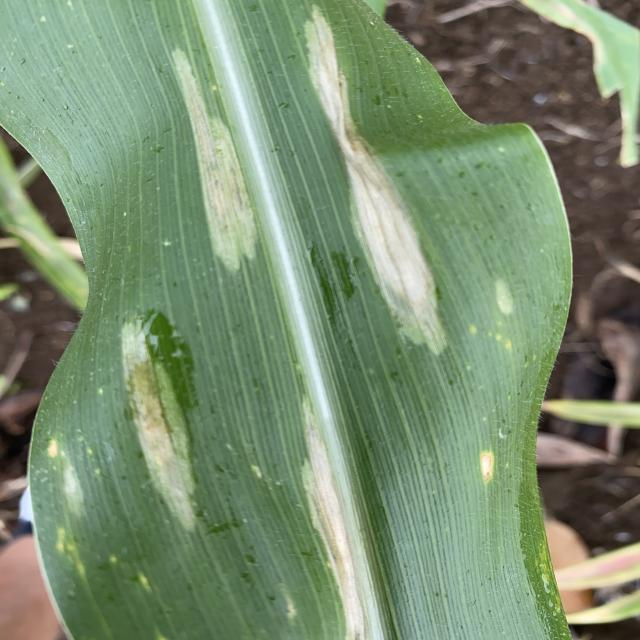Corn_Leaf_Blight: (39, 19, 558, 640)
